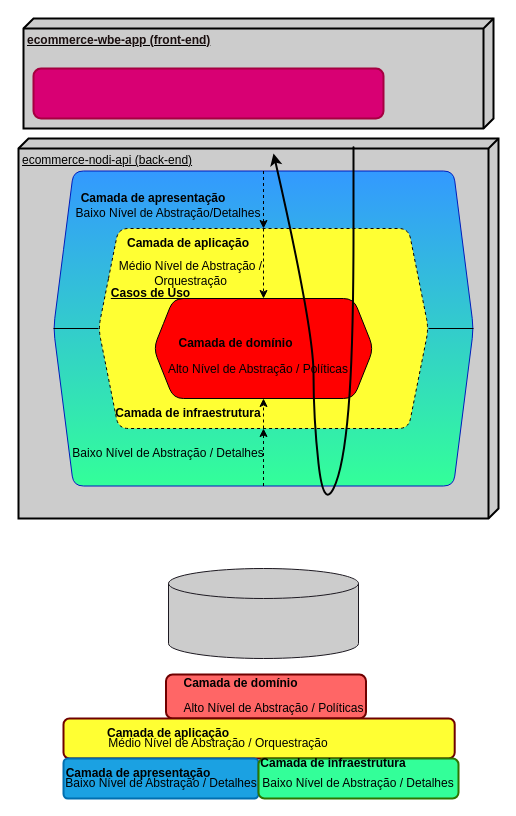
Image size: 516x816. Some labels were removed from this diagram. The centre of each missing label's shape, as x and y in pixels:
"Database (Relacional)" belongs at (x=263, y=613).
"Interface de usuário" belongs at (x=208, y=93).
